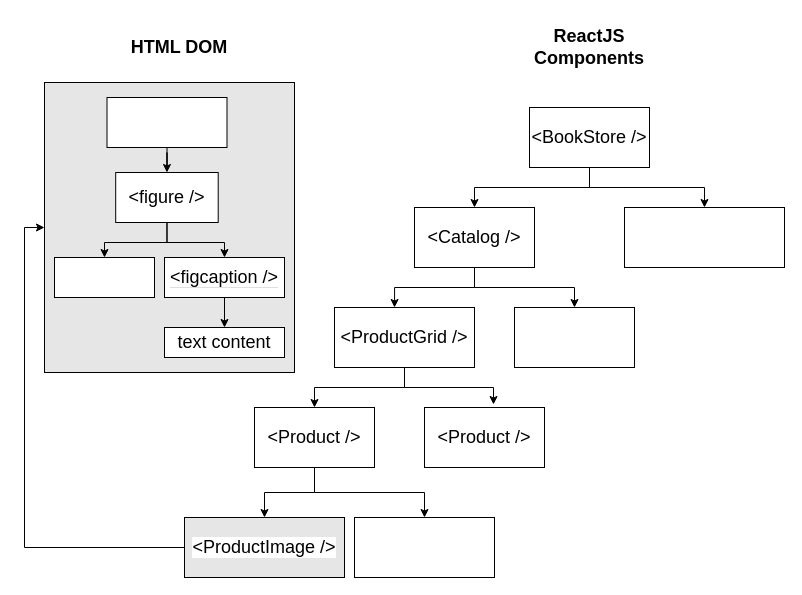
The diagram is 802 pixels wide and 595 high, and some of its shapes have lost their labels. The box of each missing label's shape, as (x1, y1, x2, y2) in pixels:
<div />: (106, 96, 227, 148)
<img />: (54, 256, 154, 298)
<ProductData />: (354, 516, 494, 578)
<ShoppingCart />: (624, 206, 784, 268)
<WishList />: (514, 306, 634, 368)
